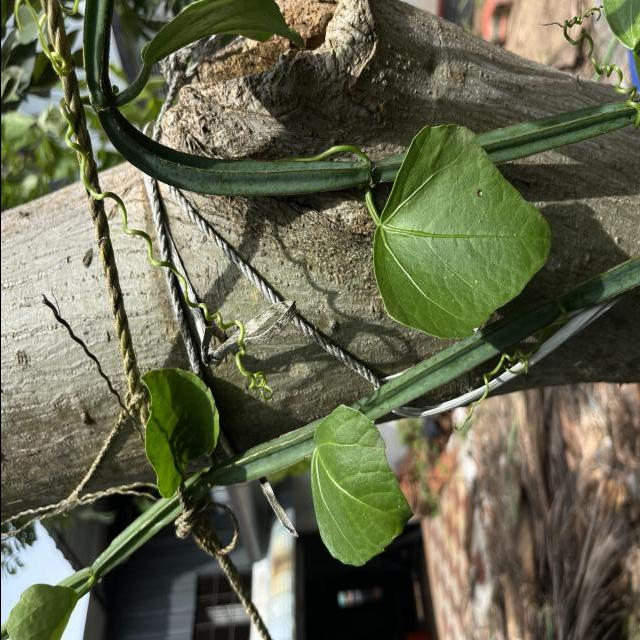Cissus quadrangularis: (368, 120, 552, 342), (306, 402, 416, 570)
